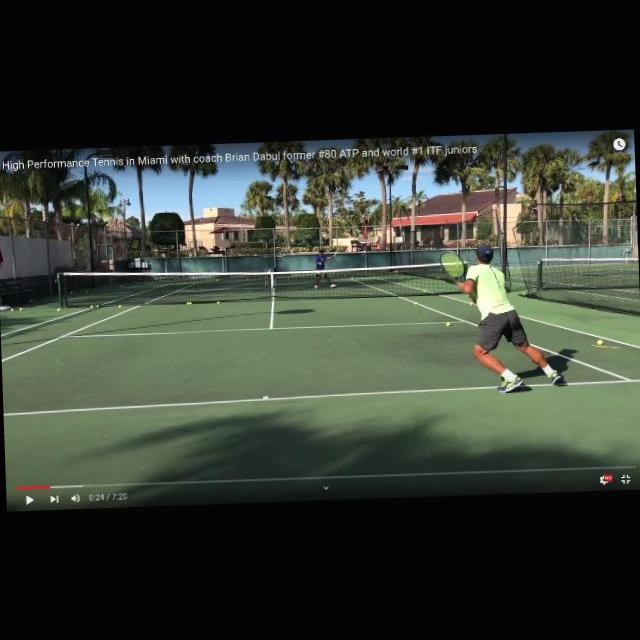tennis-ball: (597, 340, 602, 344), (445, 322, 449, 326), (118, 305, 122, 308), (58, 308, 61, 311), (90, 305, 94, 307), (10, 308, 13, 310), (217, 302, 220, 304), (96, 305, 98, 307), (188, 302, 190, 304), (20, 308, 22, 310), (186, 302, 188, 304), (414, 302, 416, 304), (470, 302, 472, 304)
